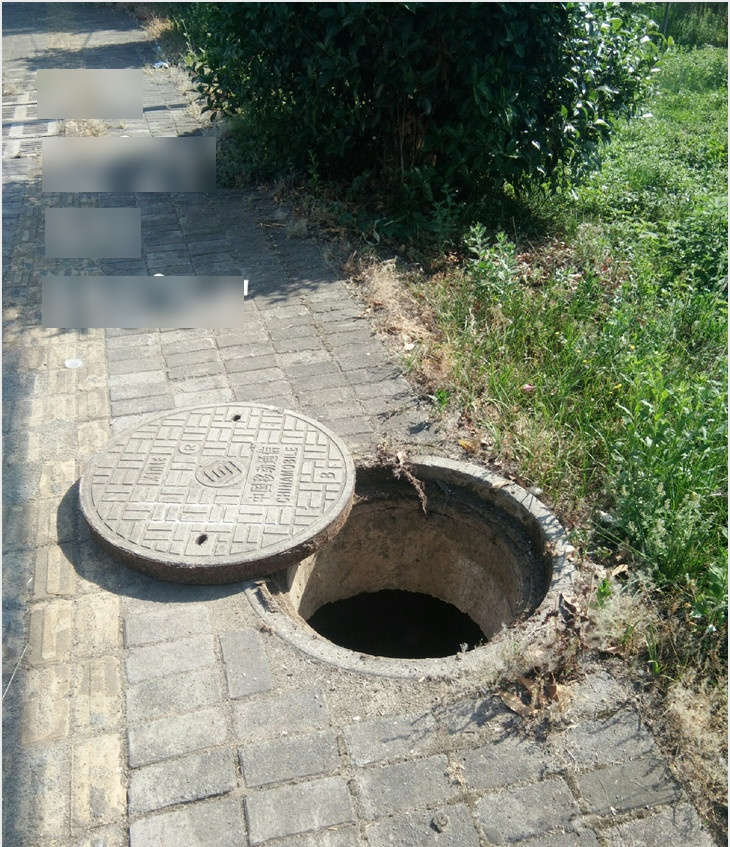uncovered: (78, 402, 569, 678)
